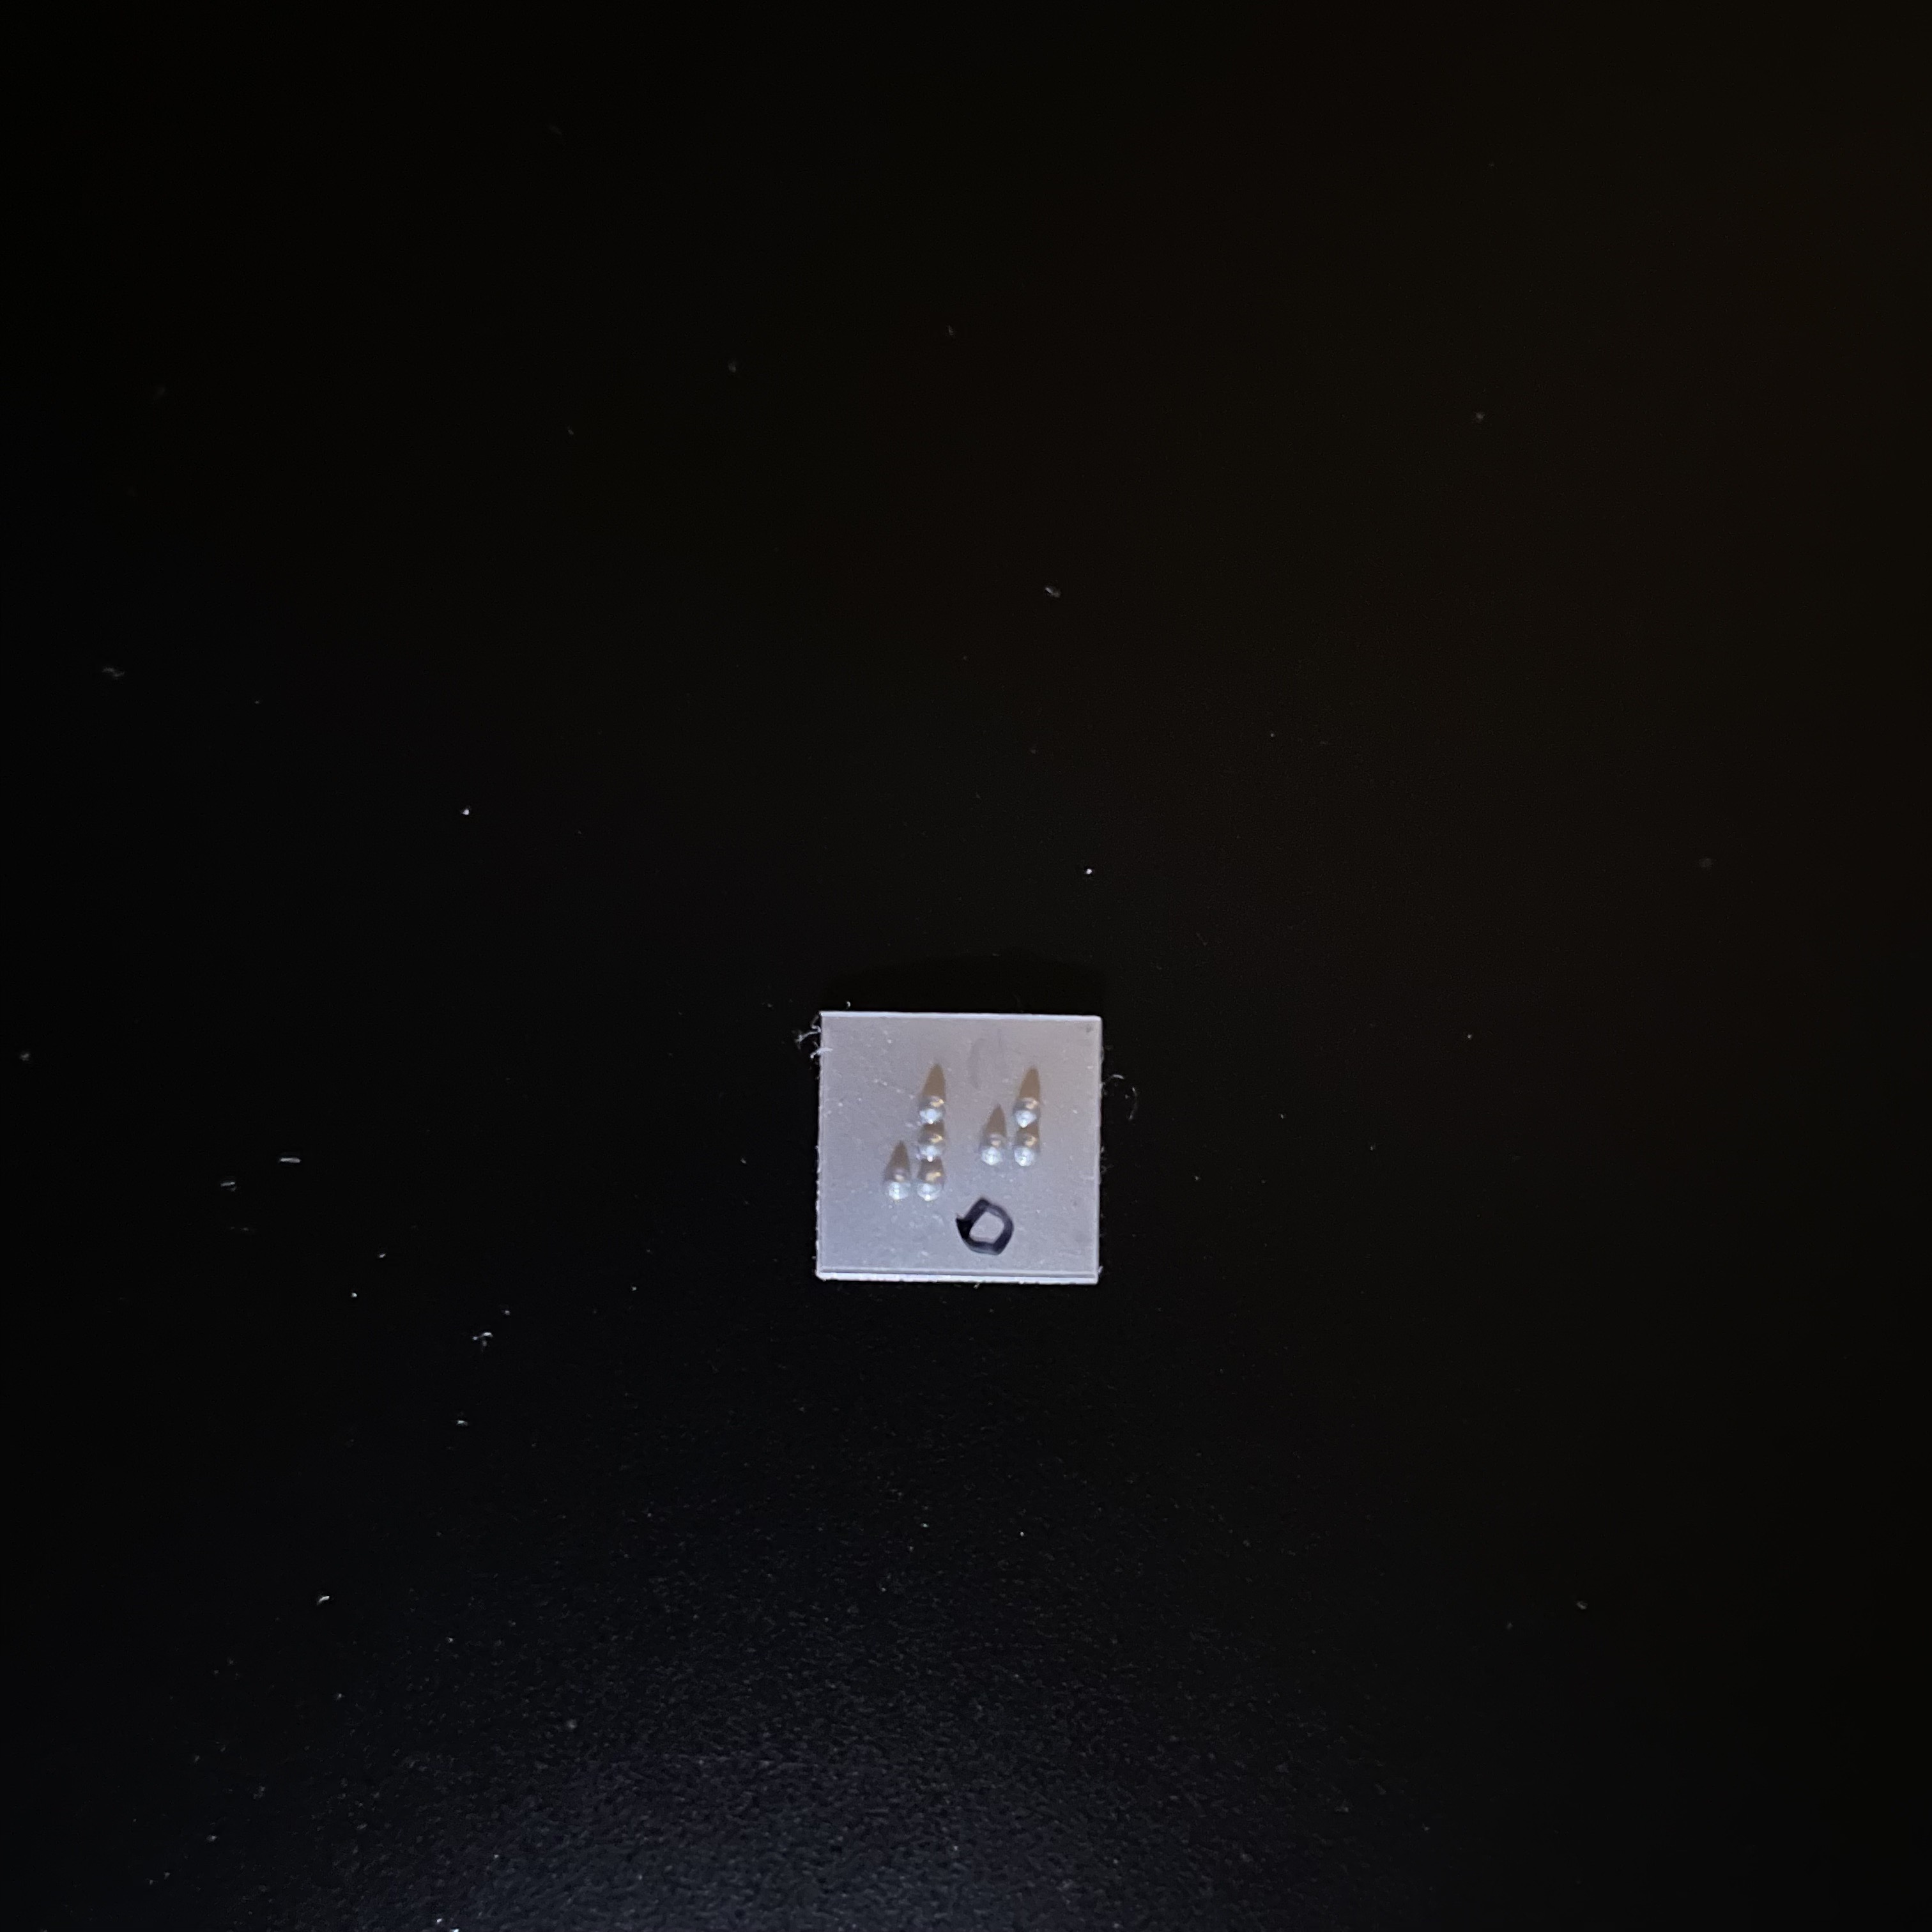#: (877, 1068, 961, 1200)
j: (965, 1068, 1054, 1207)
